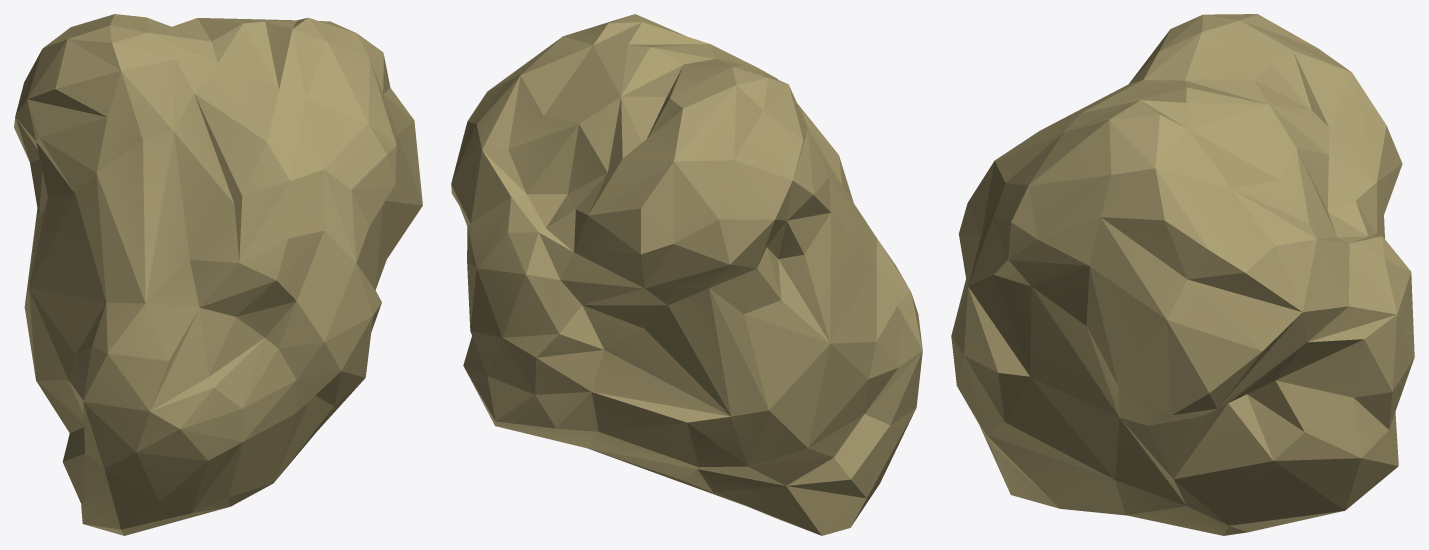
The model's file is SM_rock_91.fbx.
3 views of the same model, side by side, from view 1: azimuth 30°, elevation 25°; view 2: azimuth 150°, elevation 25°; view 3: azimuth 270°, elevation 25° (orthographic). The views are drawn at different scales.
Visible parts, largest first — view 1: rock_91; view 2: rock_91; view 3: rock_91.
Boxes of the visible parts, x1,y1,x2,y2 form: rock_91: (14,14,422,535); rock_91: (451,14,922,535); rock_91: (951,14,1414,535).
Size of the model in its own units: 211 by 240 by 198.
